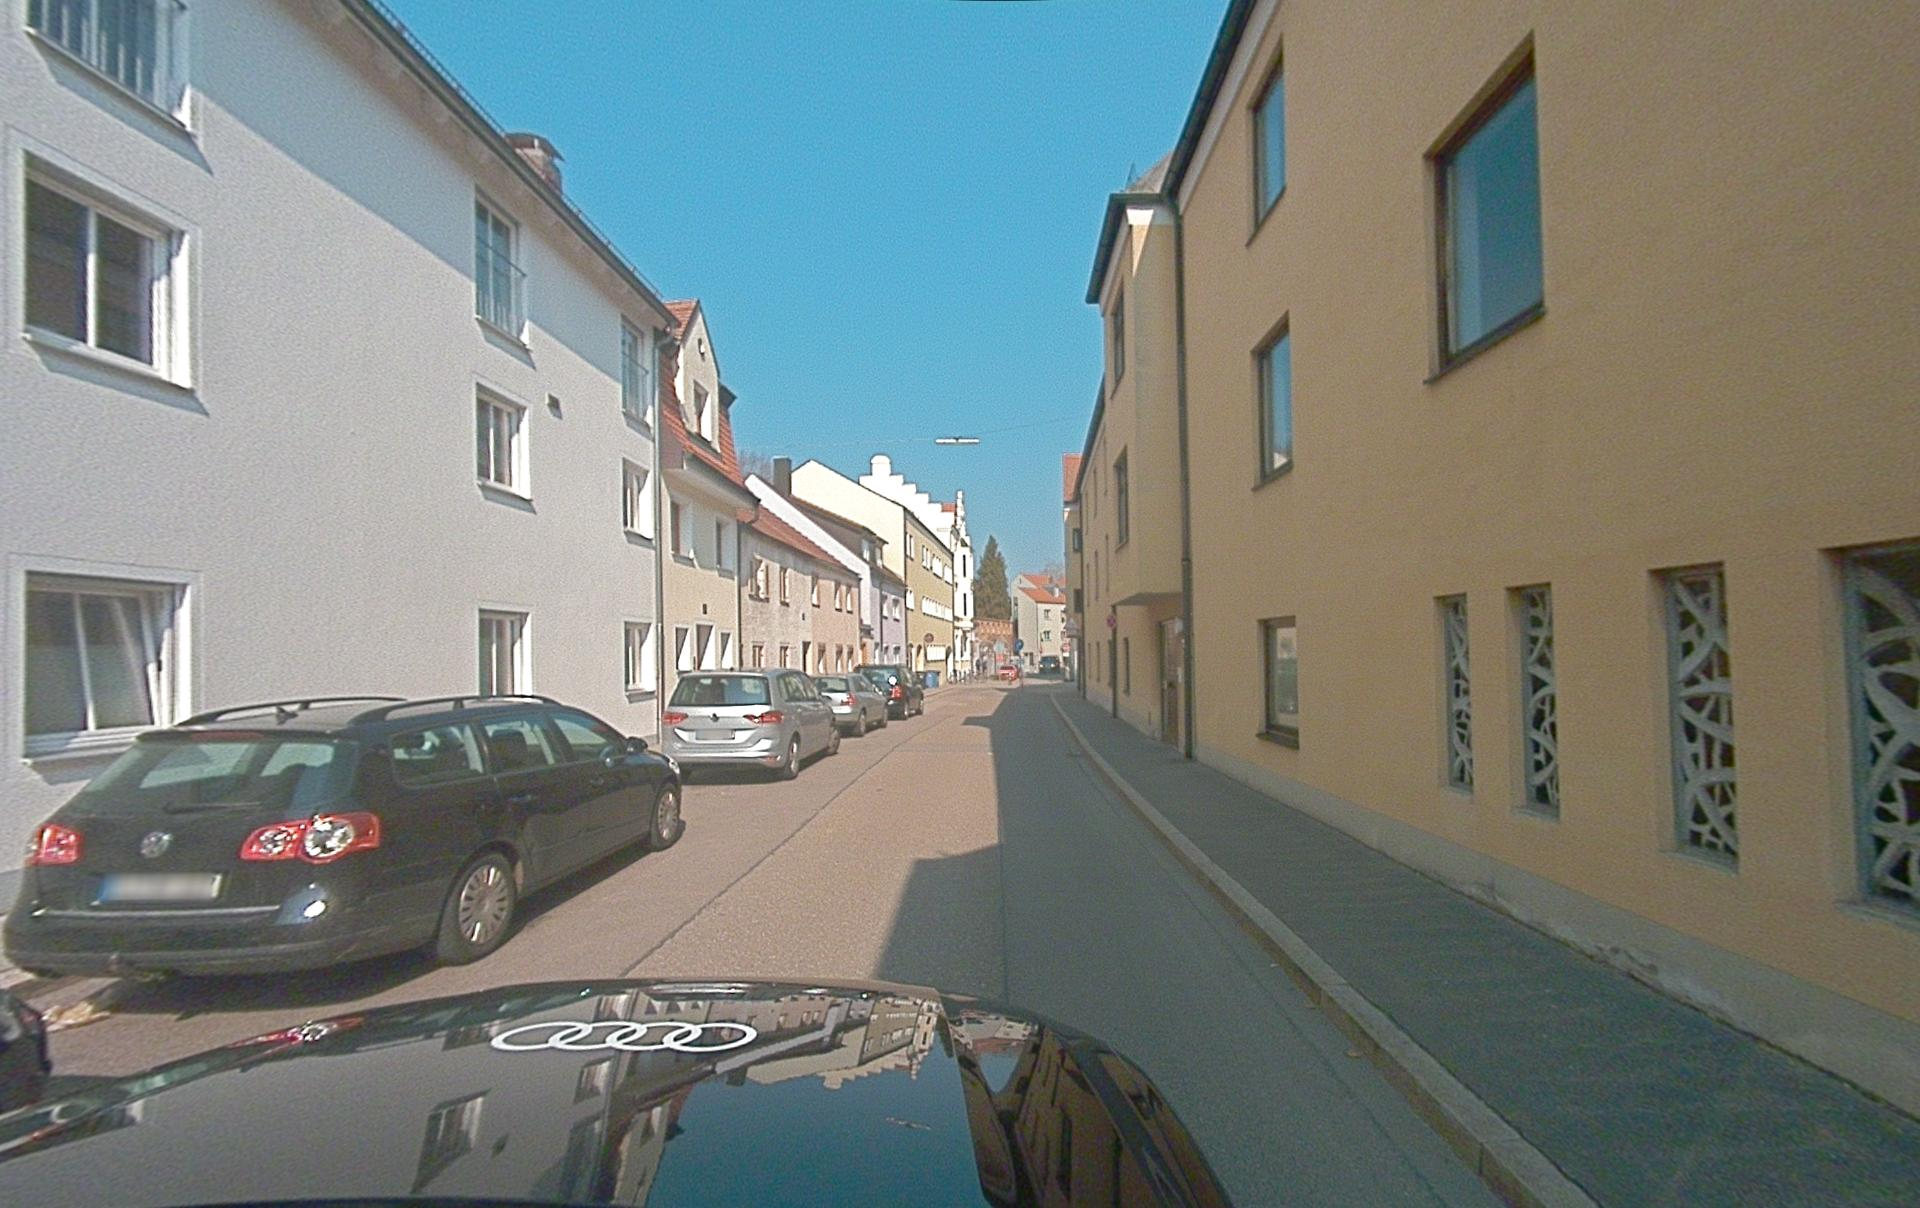car: (0, 976, 1235, 1208), (4, 692, 685, 984), (662, 668, 840, 779), (810, 674, 889, 736), (854, 664, 925, 720), (998, 665, 1018, 682)
